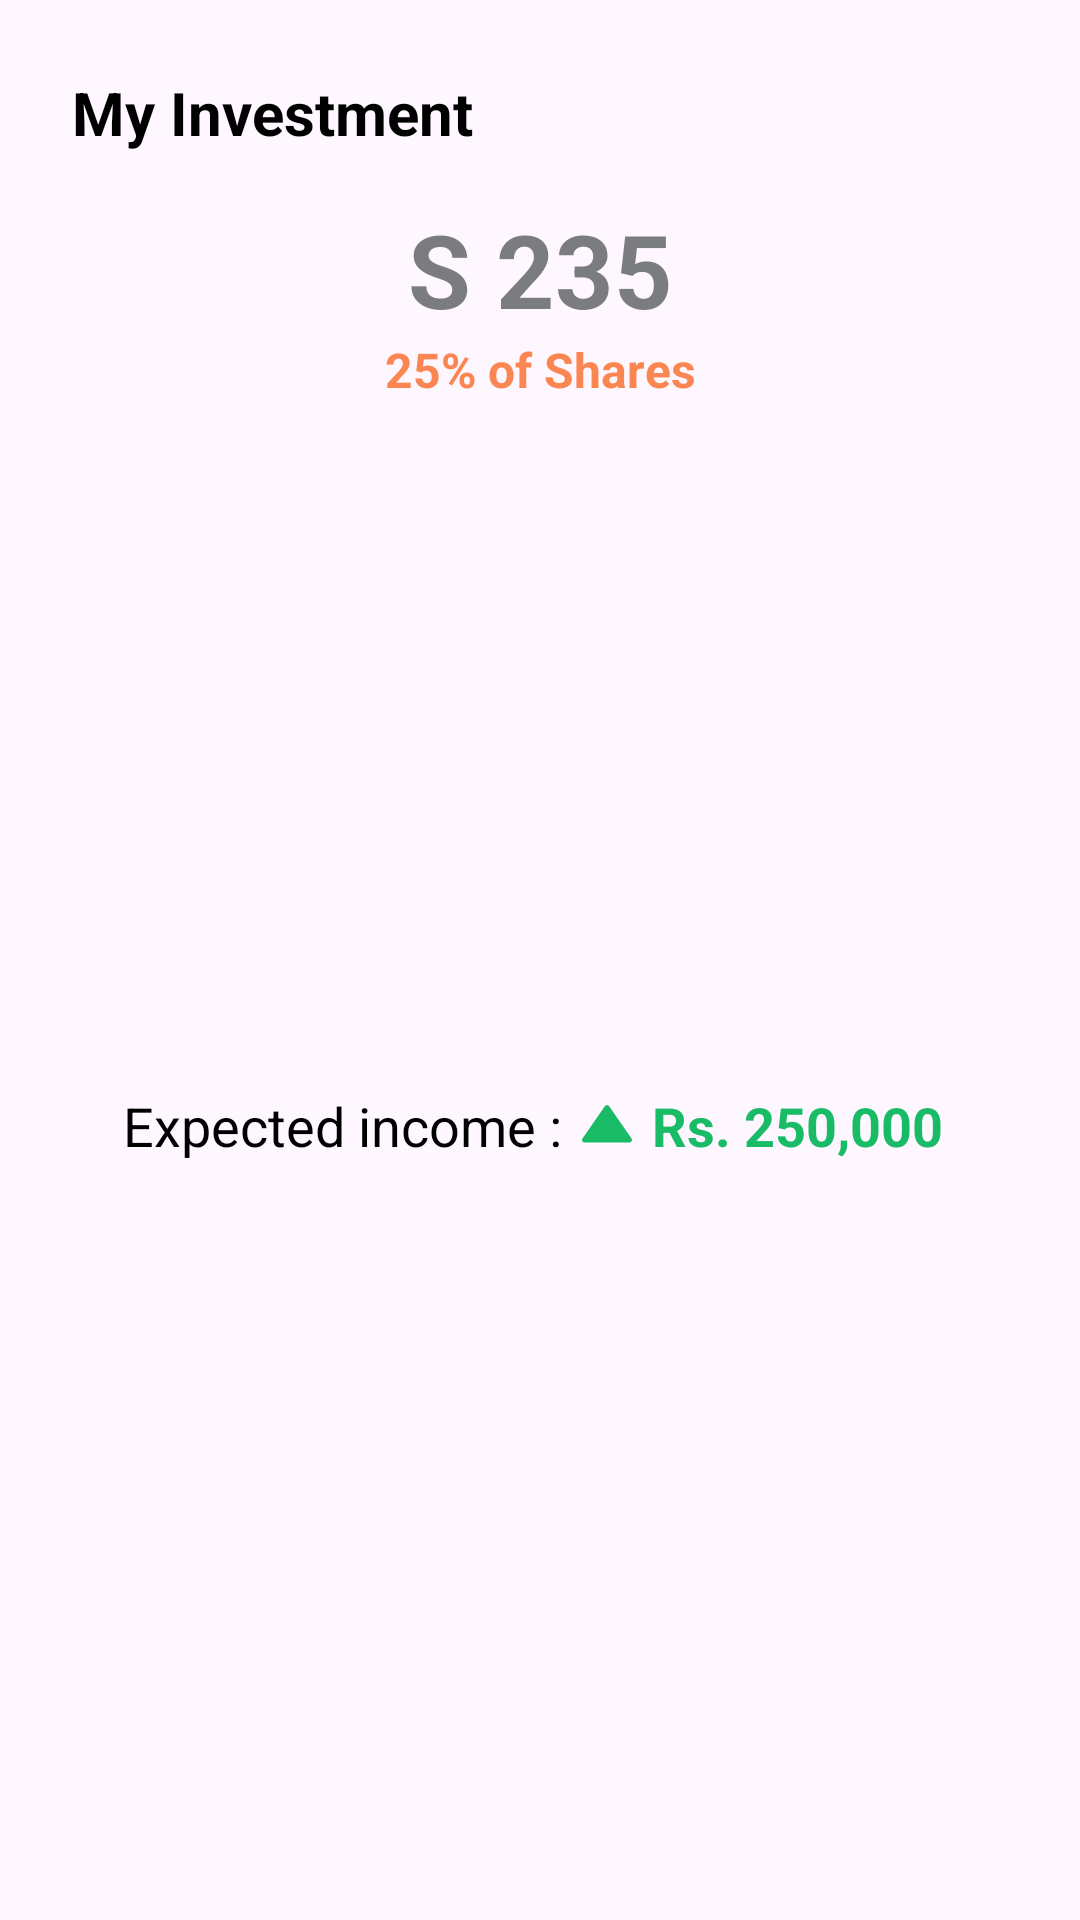

Icons on this 1080 × 1920 Android screen, each with its box as (x1, y1, x2, y2):
up arrow: (582, 1105, 632, 1143)
